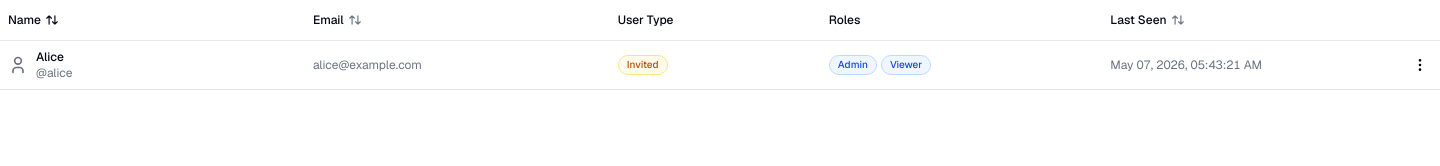
Test case: UsersTable › shows invited user deletion for delete-only managers
Click the button named "Actions for Alice" at [1420, 64], box [1408,52,1432,76]
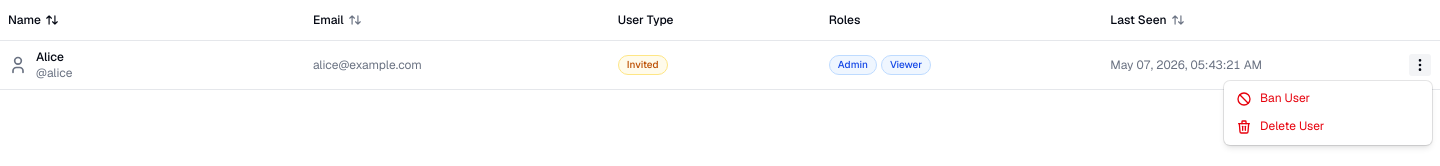
Check: the menu item "Delete User" is shown, box [1236,118,1324,135]
